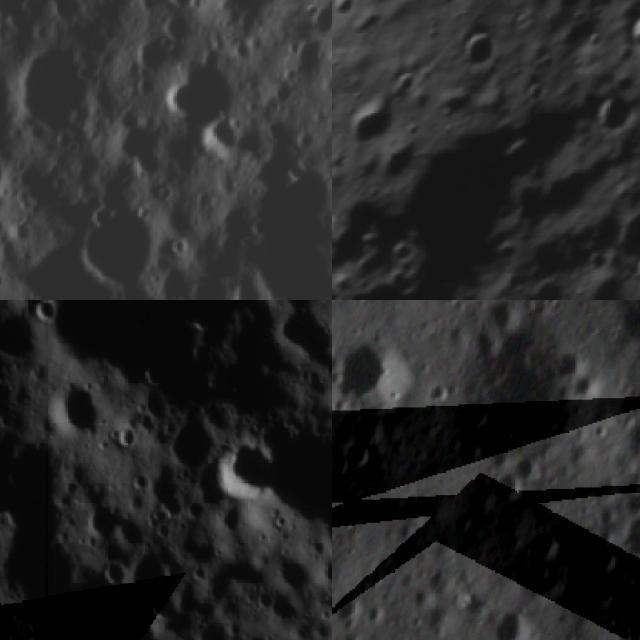crater: (344, 91, 556, 300), (47, 300, 258, 383), (0, 30, 109, 150), (332, 325, 421, 430), (257, 419, 332, 542), (332, 190, 402, 288), (514, 524, 585, 598), (42, 378, 108, 446), (211, 433, 272, 506), (188, 100, 252, 168), (450, 19, 513, 82), (340, 94, 400, 158), (582, 85, 640, 149), (275, 302, 332, 361), (568, 259, 640, 300), (332, 580, 380, 640), (128, 547, 180, 602), (478, 597, 544, 640), (0, 303, 41, 369), (605, 201, 640, 274), (482, 458, 532, 508), (153, 73, 207, 119), (609, 501, 640, 580), (338, 434, 385, 482), (82, 496, 125, 542), (543, 0, 606, 26), (566, 366, 604, 404), (618, 2, 640, 65), (332, 277, 390, 300), (419, 379, 455, 414), (584, 414, 618, 450), (114, 419, 143, 454), (332, 0, 365, 30), (24, 300, 61, 326), (102, 549, 125, 589), (623, 246, 640, 300), (0, 143, 15, 204), (609, 623, 640, 640)
